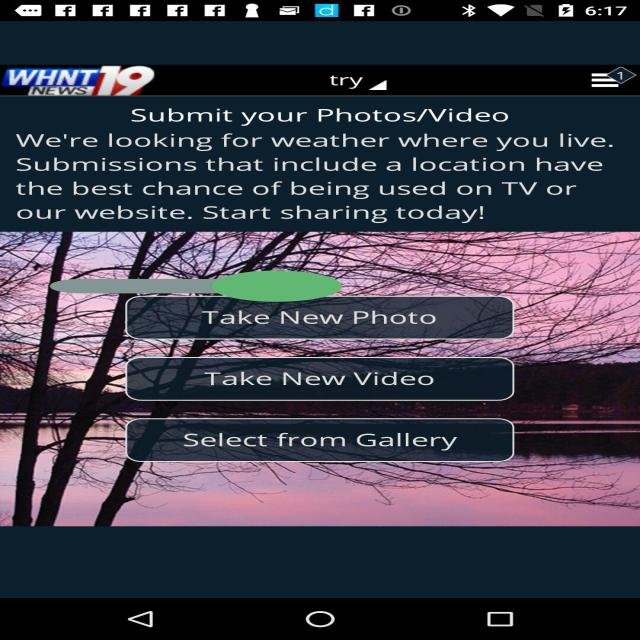social proof: (50, 251, 342, 321)
